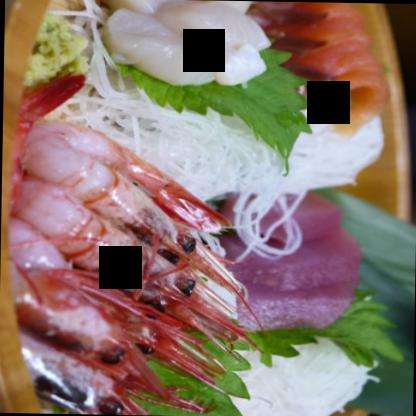shrimp: (7, 190, 256, 332), (18, 120, 237, 280)
